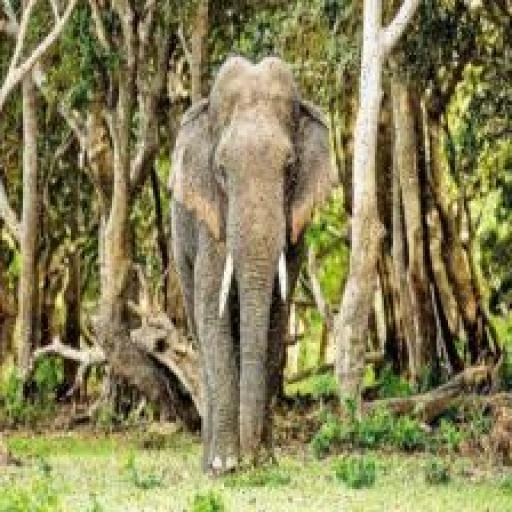Elephant: (169, 50, 338, 479)
